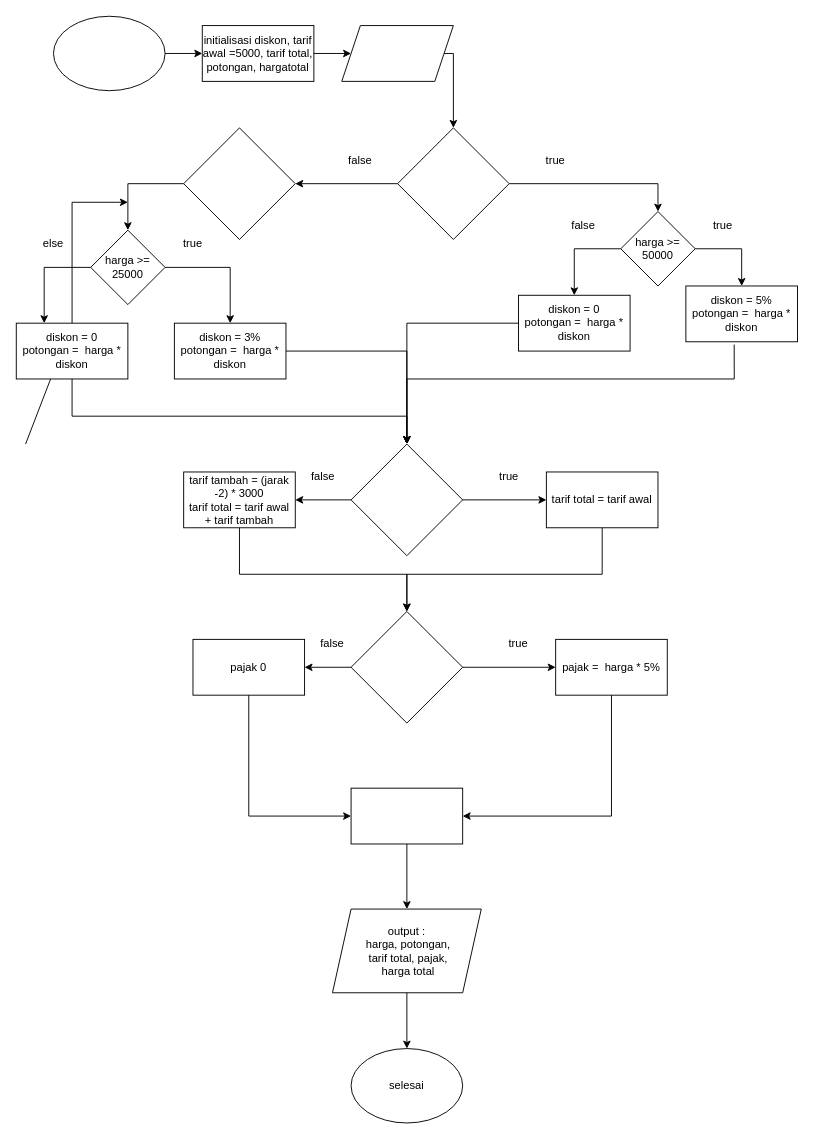
The diagram is 814 pixels wide and 1139 high, and some of its shapes have lost their labels. Here are the shapes that lost their labels. From the top down, the box of each, then its label:
(53, 15, 165, 91): mulai
(341, 25, 453, 81): inputkan harga.voucher, jarak,pajak
(183, 127, 295, 239): voucher = DITRAKTIR60
(397, 127, 509, 239): voucher = FAZZFOOD50
(350, 443, 463, 556): jarak <=2
(350, 611, 463, 723): cek pajak
(350, 787, 463, 844): harga total = harga - potongan + tarif total + pajak
